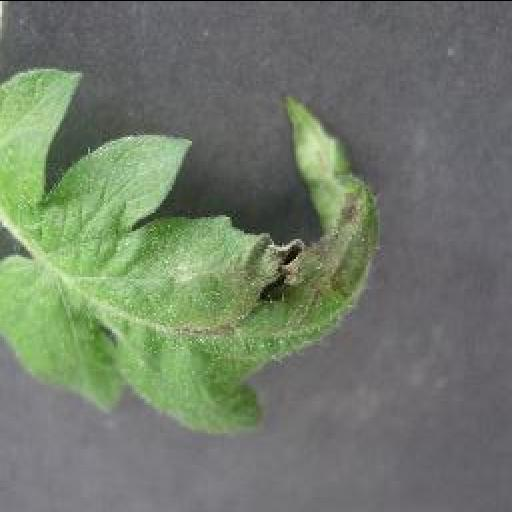disease_tomato: (0, 66, 382, 430)
